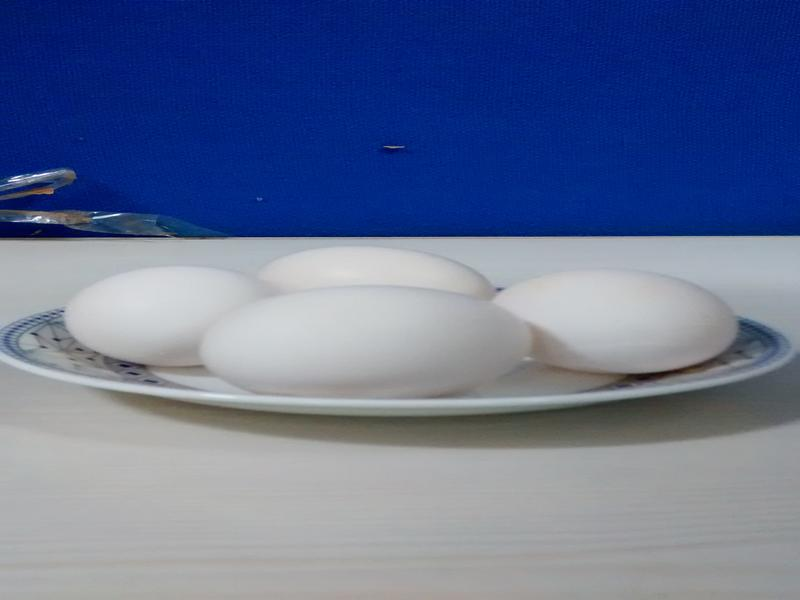egg: (207, 287, 522, 398)
